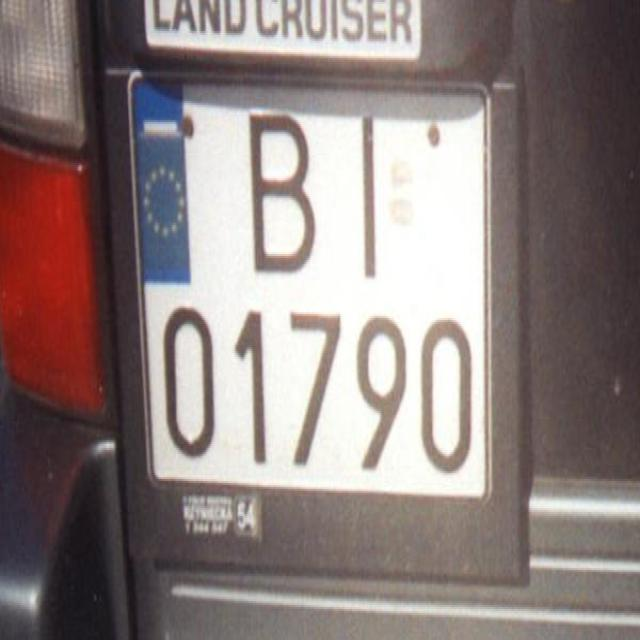pl_license_plate: (127, 74, 491, 496)
